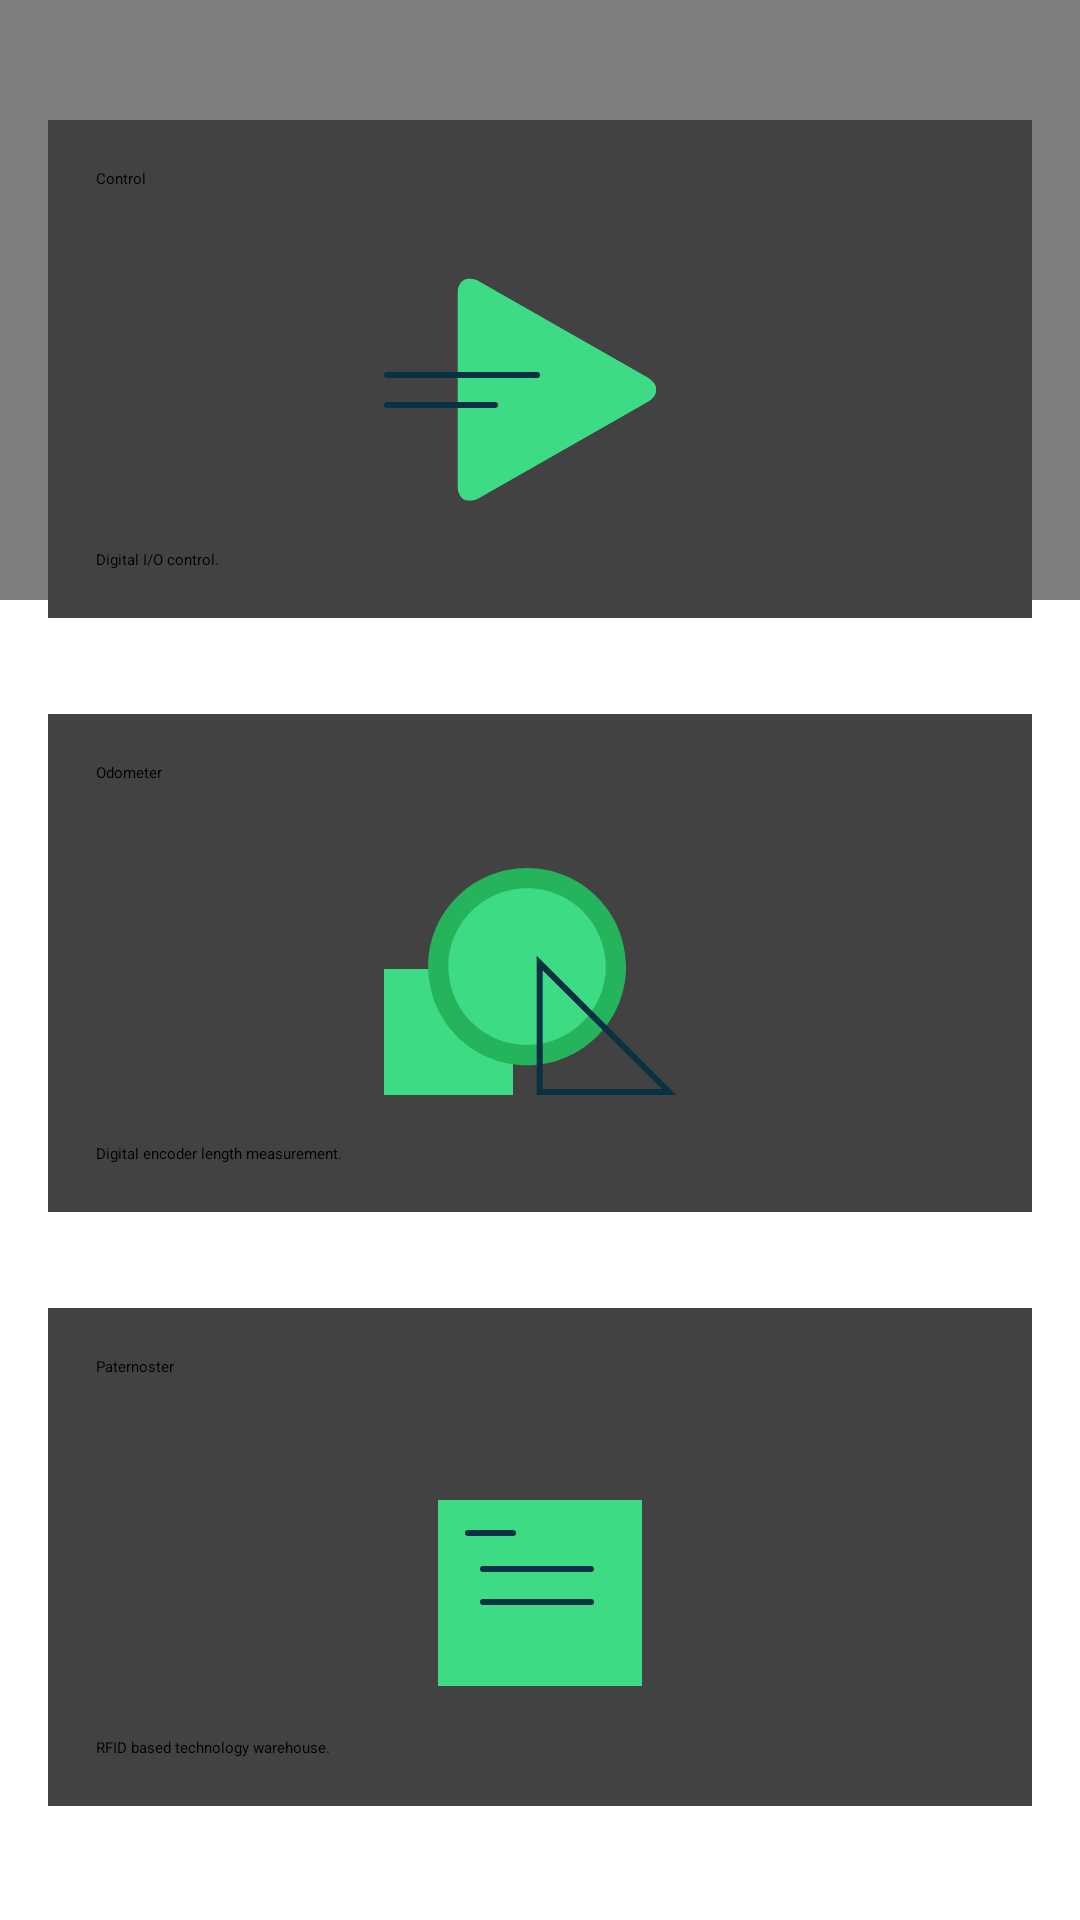

Icon click points for this 1080*1920 phone screenshot, format point (x, y):
design: point (530, 981)
distribute play: point (520, 389)
